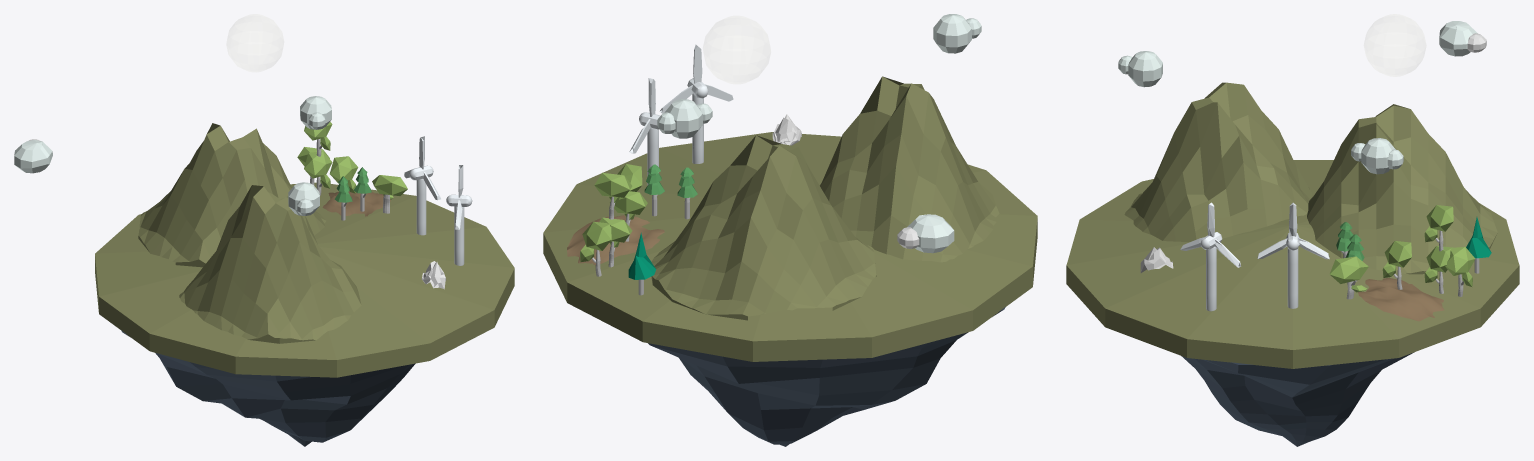
3 renders of one model, left to right at view 1: azimuth 30°, elevation 25°; view 2: azimuth 150°, elevation 25°; view 3: azimuth 270°, elevation 25°, orthographic. The views are drawn at different scales.
Parts seen in each view (by area): view 1: Ground.1, Mountain (×2), land, Oil_Tank.2 (×2), treeC (×3), clouds, Boole, Sphere.1, Sphere; view 2: Mountain (×2), Ground.1, land, Boole, Oil_Tank.2 (×2), clouds, Sphere.1, Sphere, tree, tree.2, treeB, Platonic (+1 smaller); view 3: Ground.1, Mountain (×2), land, Boole, Oil_Tank.2 (×2), treeC (×3), Sphere.1, clouds, Sphere, tree, tree.2, treeB (+1 smaller).
Part boxes in pixels (left/top/right/bottom): Ground.1: left=95, top=182, right=514, bottom=377; Mountain (×2): left=138, top=123, right=361, bottom=343; land: left=121, top=330, right=415, bottom=446; Oil_Tank.2 (×2): left=409, top=165, right=472, bottom=265; treeC (×3): left=304, top=151, right=407, bottom=195; clouds: left=14, top=140, right=52, bottom=173; Boole: left=322, top=191, right=390, bottom=216; Sphere.1: left=288, top=182, right=319, bottom=215; Sphere: left=300, top=96, right=331, bottom=129; Mountain (×2): left=651, top=76, right=999, bottom=320; Ground.1: left=543, top=132, right=1037, bottom=361; land: left=648, top=306, right=1005, bottom=446; Boole: left=567, top=215, right=664, bottom=265; Oil_Tank.2 (×2): left=639, top=78, right=708, bottom=185; clouds: left=907, top=214, right=954, bottom=253; Sphere.1: left=933, top=14, right=971, bottom=53; Sphere: left=664, top=99, right=702, bottom=138; tree: left=580, top=221, right=611, bottom=276; tree.2: left=594, top=172, right=632, bottom=219; treeB: left=628, top=232, right=656, bottom=279; Platonic: left=772, top=114, right=801, bottom=145; Ground.1: left=1066, top=160, right=1519, bottom=368; Mountain (×2): left=1124, top=82, right=1497, bottom=274; land: left=1181, top=352, right=1414, bottom=446; Boole: left=1358, top=278, right=1444, bottom=321; Oil_Tank.2 (×2): left=1200, top=232, right=1299, bottom=311; treeC (×3): left=1329, top=241, right=1452, bottom=283; Sphere.1: left=1128, top=51, right=1162, bottom=87; clouds: left=1439, top=21, right=1477, bottom=56; Sphere: left=1361, top=138, right=1395, bottom=174; tree: left=1445, top=247, right=1475, bottom=296; tree.2: left=1424, top=205, right=1453, bottom=251; treeB: left=1466, top=217, right=1491, bottom=258.
Size of the model in its own units: 251 by 242 by 233.
